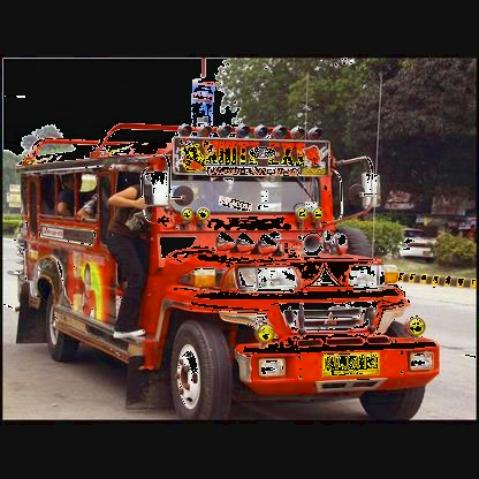jeepney: (18, 118, 440, 422)
